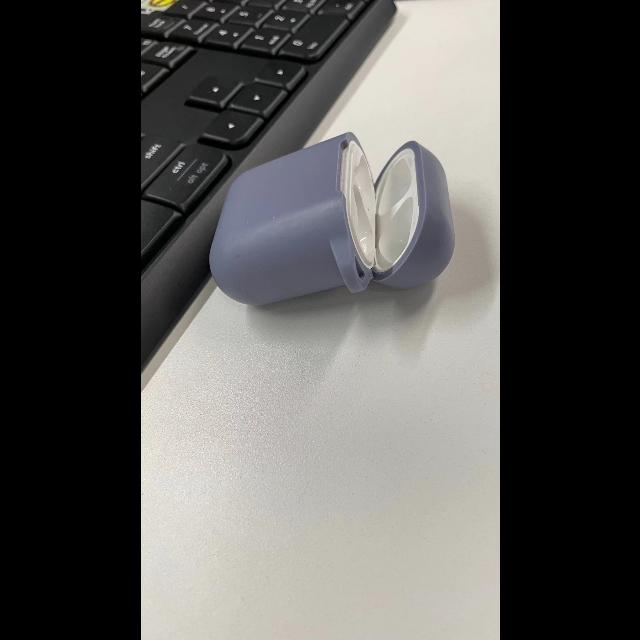airpods: (208, 133, 453, 305)
